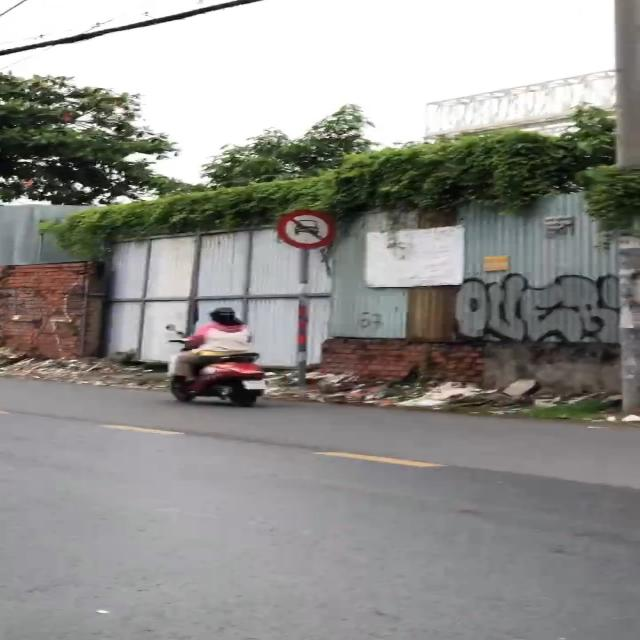Bien bao cam xe oto: (273, 209, 344, 248)
